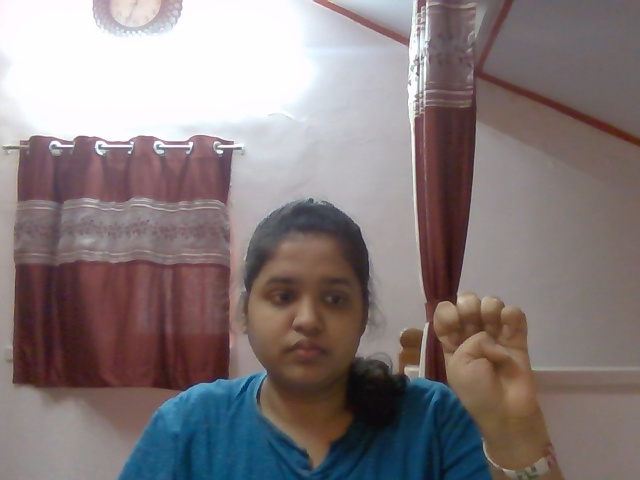e: (417, 285, 549, 426)
